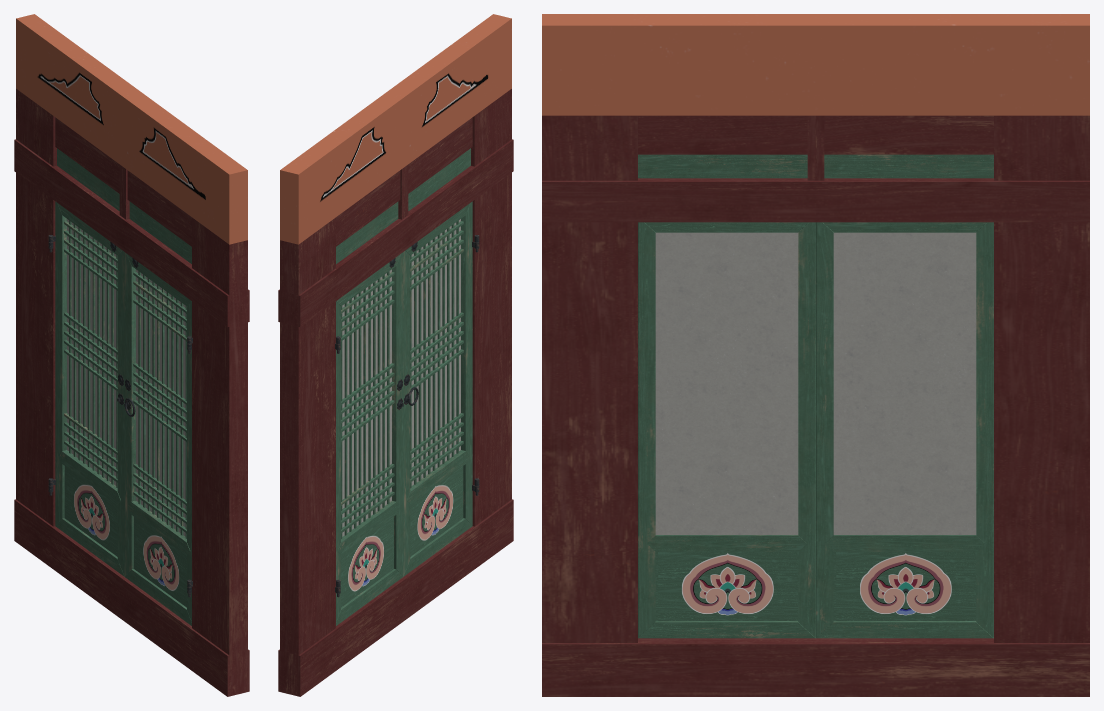
Rendered from SM_CGJ_Wall01c.fbx.
The picture shows the model from 3 angles, left to right: view 1: azimuth 30°, elevation 25°; view 2: azimuth 150°, elevation 25°; view 3: azimuth 270°, elevation 25°; orthographic projection. The views are drawn at different scales.
Visible parts, largest first — view 1: SM_CGJ_Wall01c; view 2: SM_CGJ_Wall01c; view 3: SM_CGJ_Wall01c.
Boxes of the visible parts, <box> form: SM_CGJ_Wall01c: <box>14,14,249,696</box>; SM_CGJ_Wall01c: <box>278,14,513,696</box>; SM_CGJ_Wall01c: <box>542,14,1089,696</box>.
Bounding box in the file's own units: 13.46 × 200 × 270.
6 materials, 6 textured.
